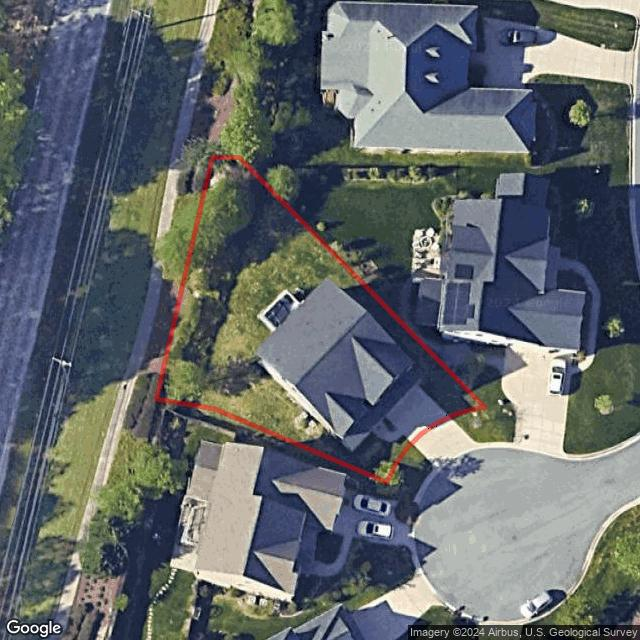Driveway: (386, 386, 452, 444)
Extra-Driveway: (412, 418, 477, 467)
Extra-Lawn: (386, 445, 435, 500), (452, 407, 512, 444)
House: (253, 277, 429, 453)
Lawn: (155, 157, 485, 482)
Other: (258, 289, 303, 333)
Sidewalk: (371, 422, 404, 441)
